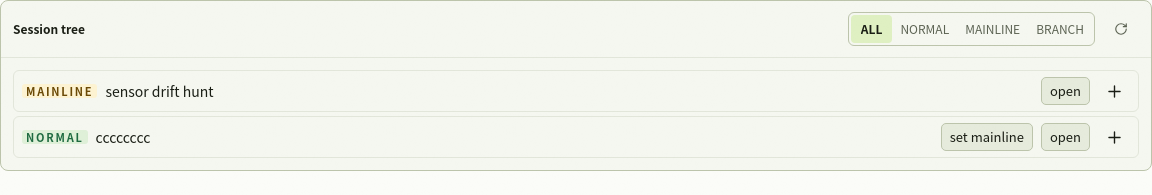
Test: SessionTree › does NOT offer it when the emptiness is only the filter
Click the radio button labelled "BRANCH".
click(1060, 29)  # box [1028,15,1092,43]
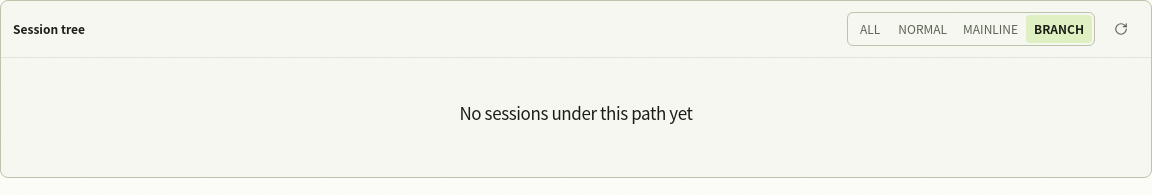
Check: the text "No sessions under this path yet" is shown, box [459,102,693,125]
